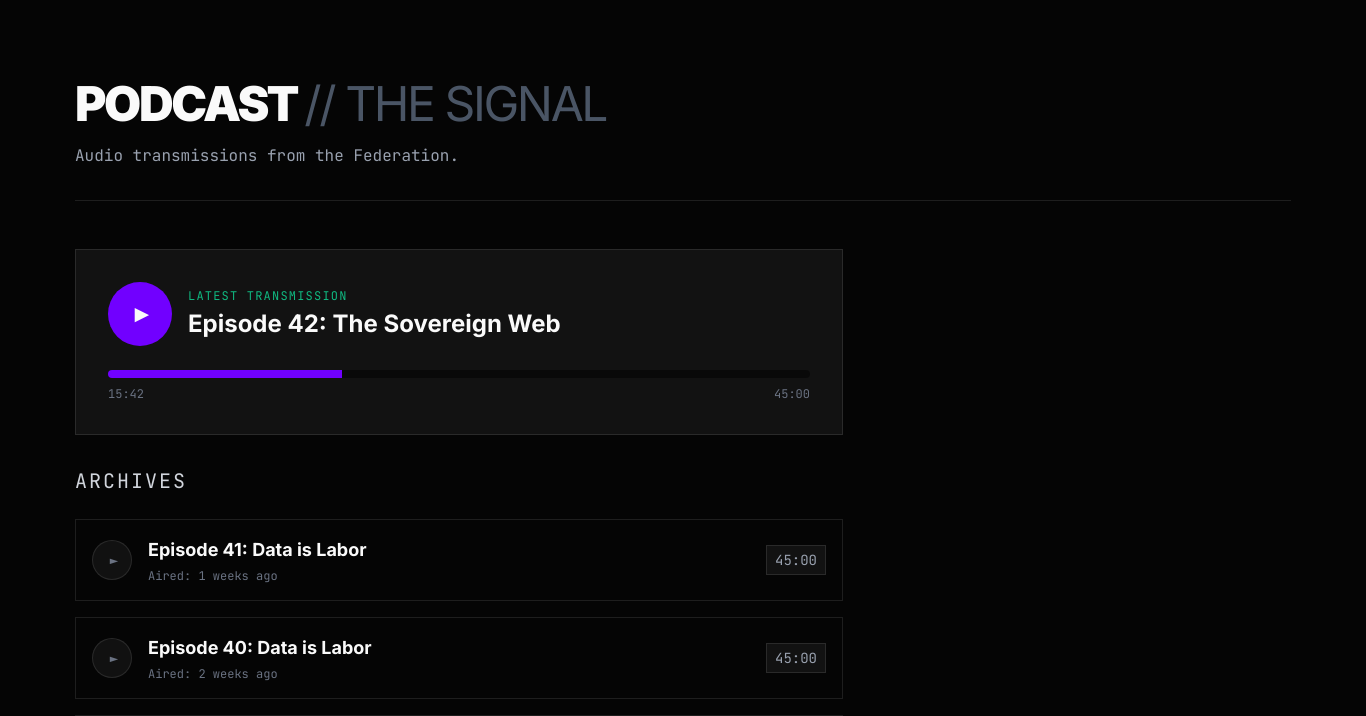
Scenario: TheSignal › toggles play/pause state when the main button is clicked
Expected: the text "Latest Transmission" is shown, [188,288,348,304]
Expected: the text "Receiving Signal..." is not shown
Note: Click to play
Click the button named "Play Latest Transmission": (140,314) [108,282,172,346]
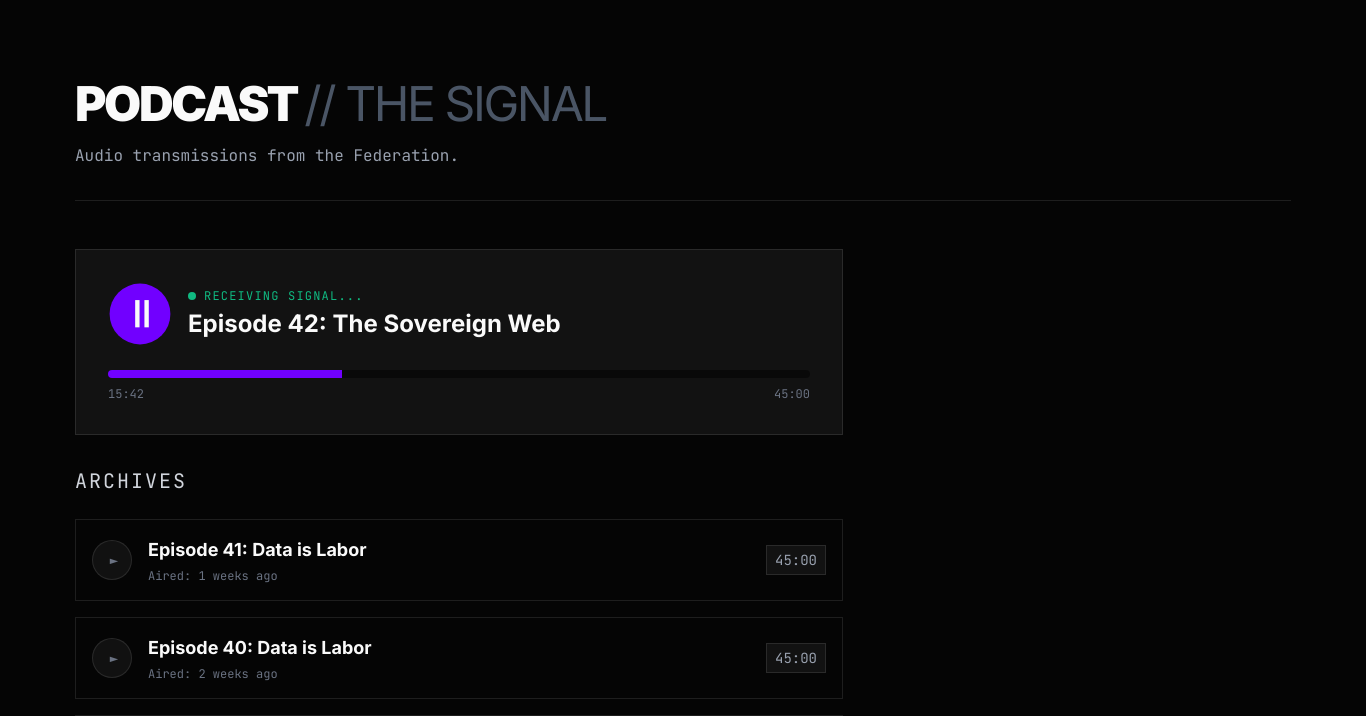
Result: the button named "Pause Latest Transmission" is shown
Result: the text "Receiving Signal..." is shown at [188,288,364,304]
Note: Click to pause
Click the button named "Pause Latest Transmission": (140,314) [110,284,170,344]
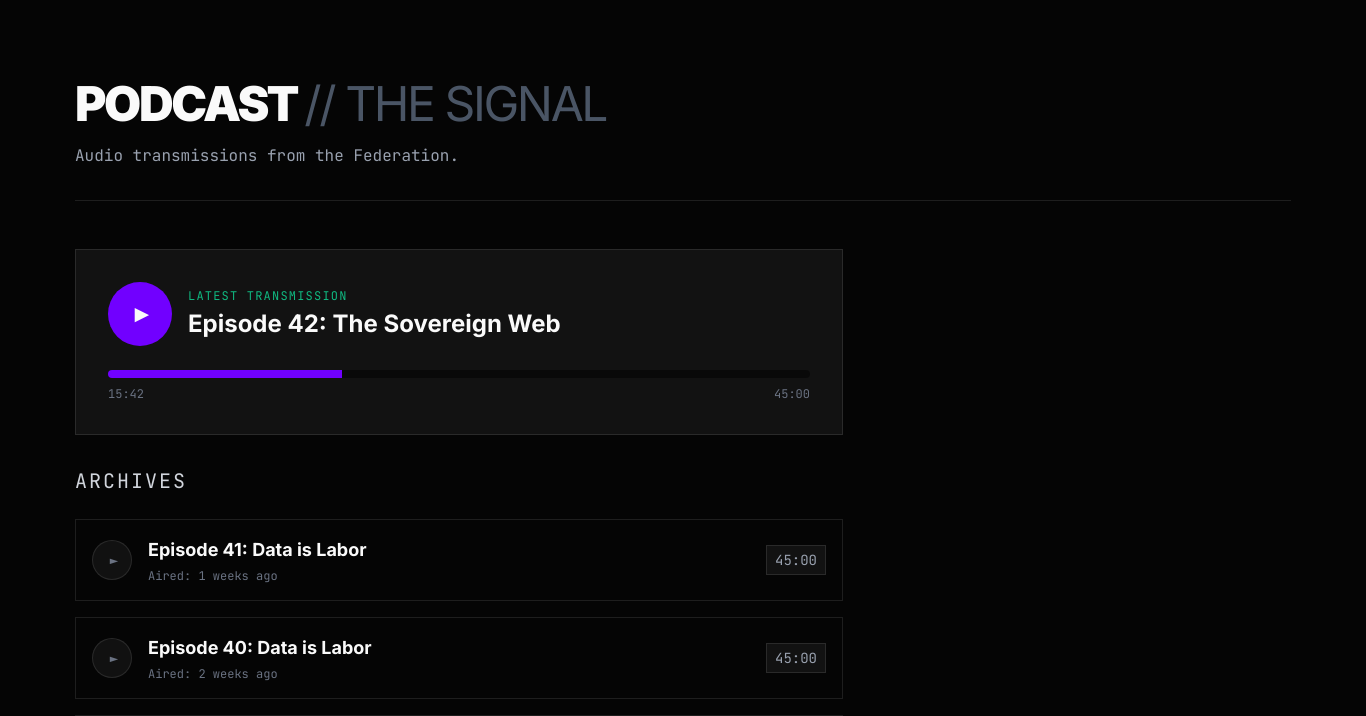
Result: the button named "Play Latest Transmission" is shown at [108,282,172,346]
Result: the text "Latest Transmission" is shown at [188,288,348,304]
